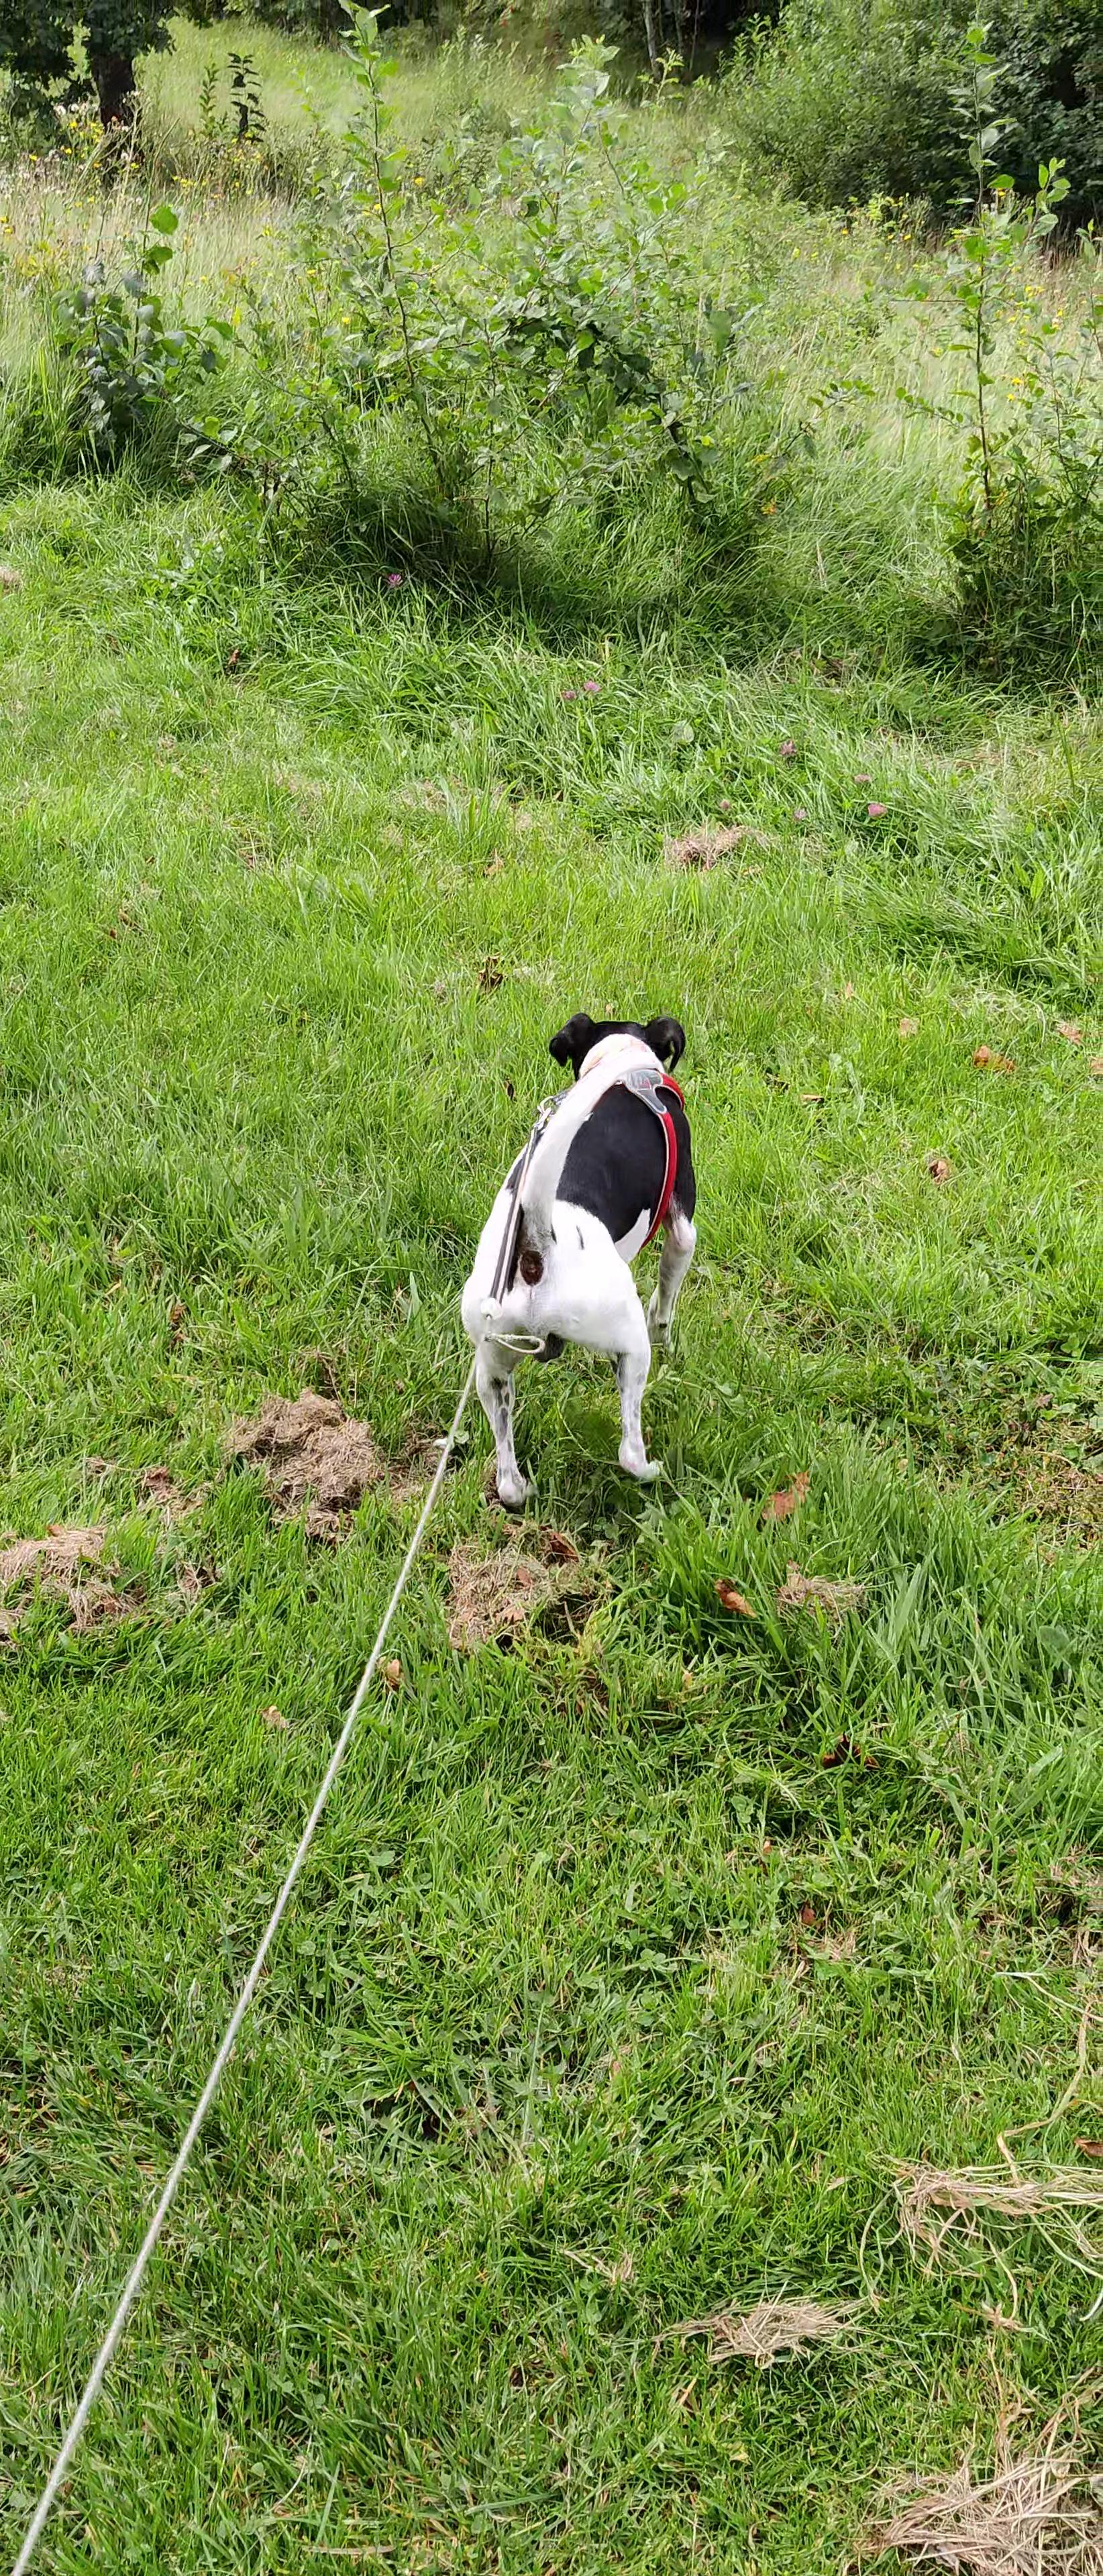Dog: (426, 996, 746, 1531)
